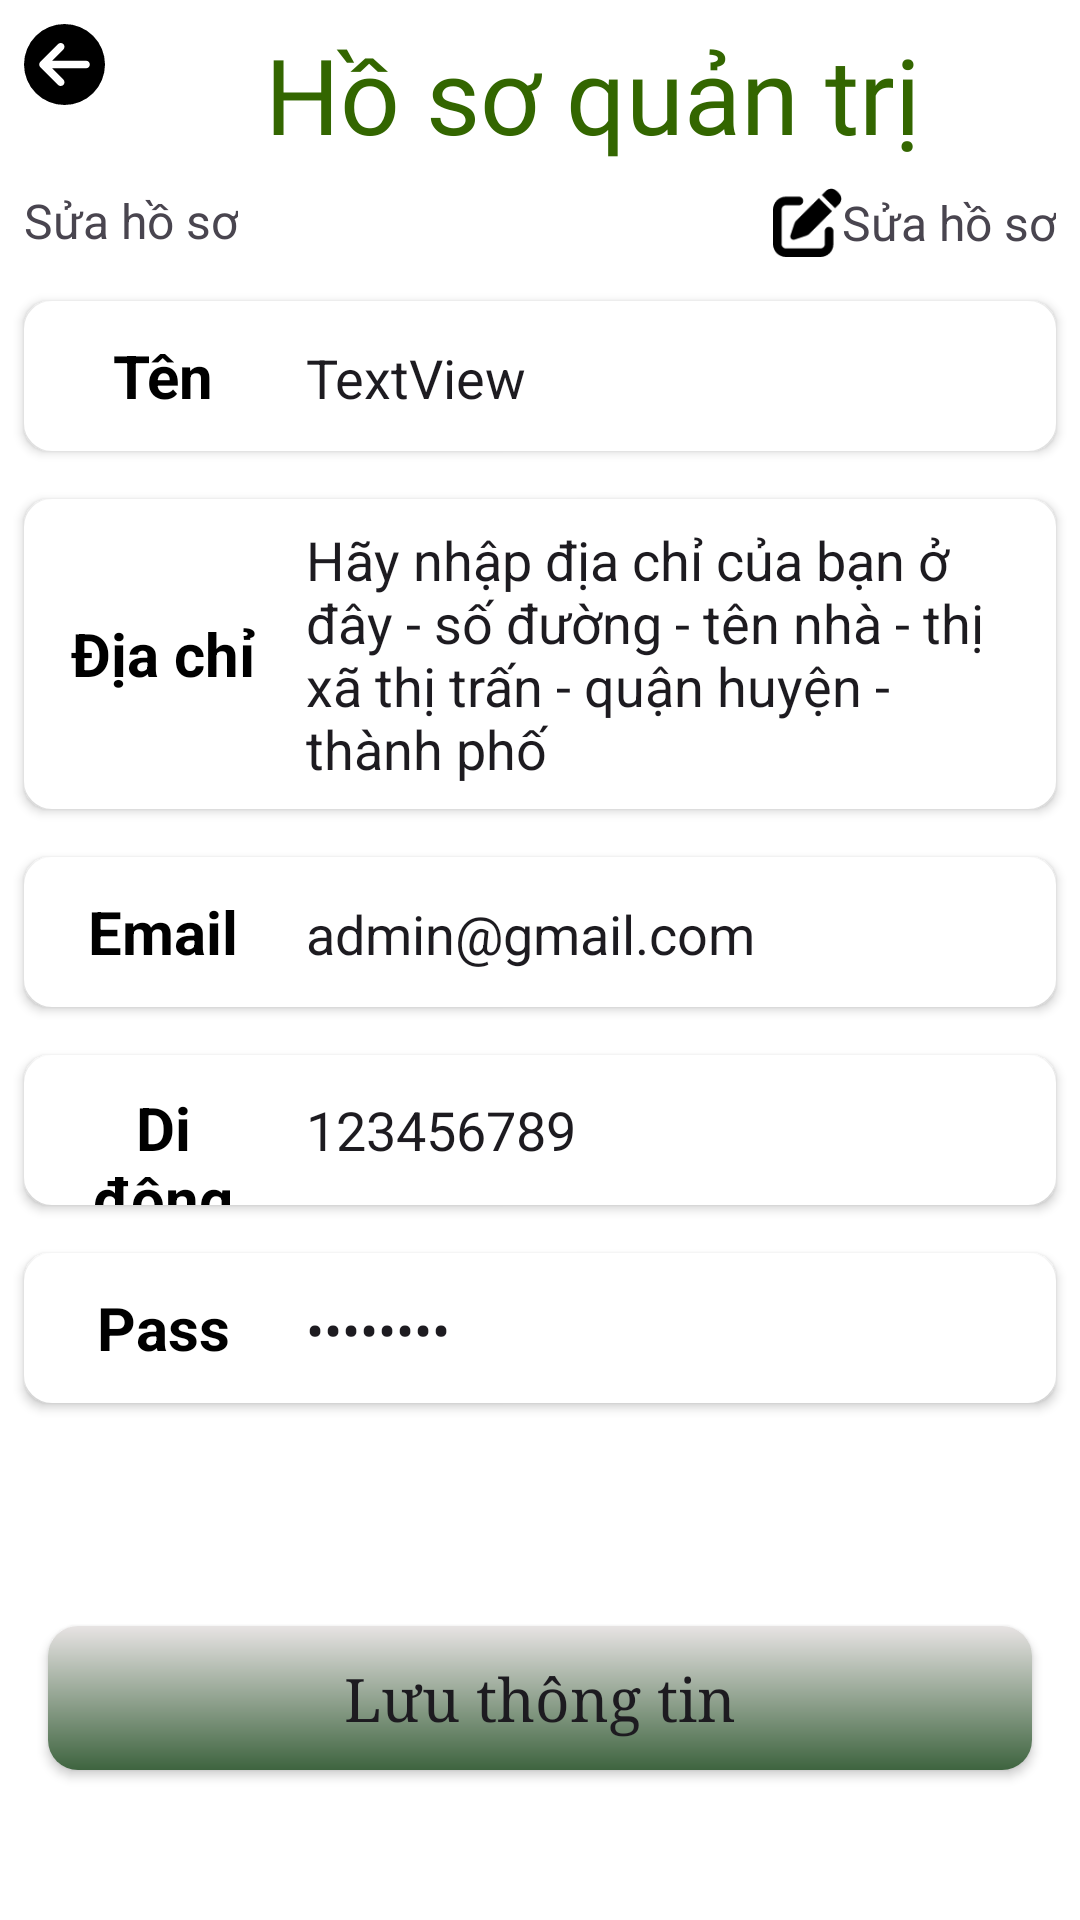

Named icons in this screenshot (1080px×1920px) and their centers, (x,y):
circle arrow left: (64,64)
